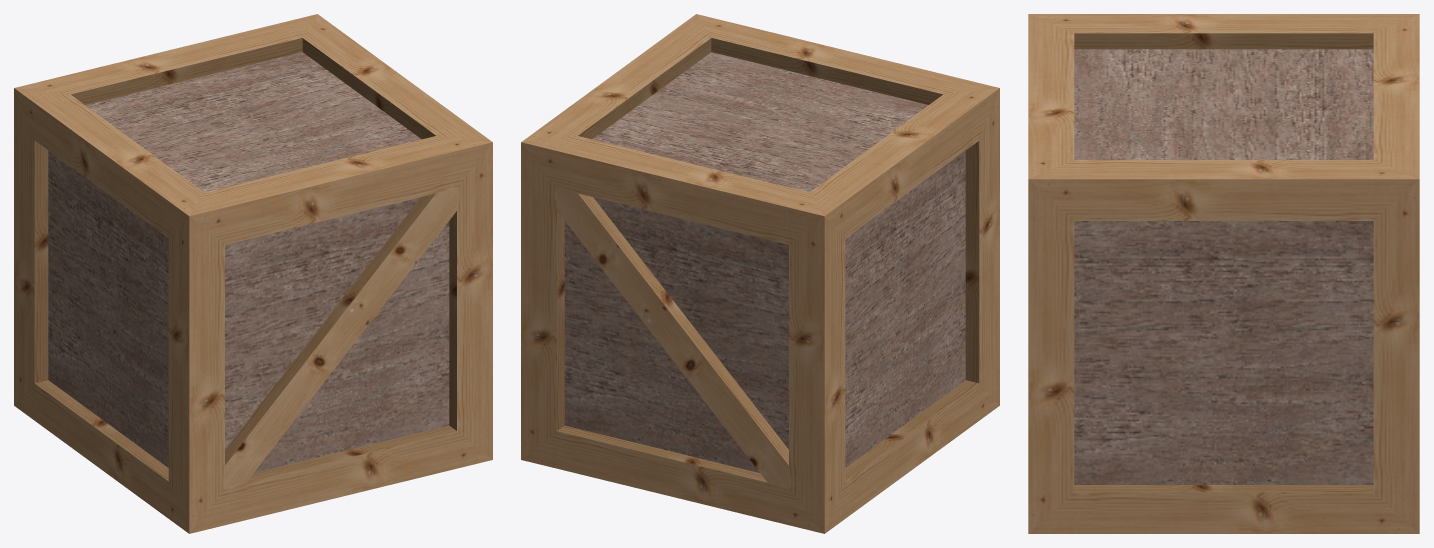
File: ShippingCrate.obj
3 renders of one model, left to right at view 1: azimuth 30°, elevation 25°; view 2: azimuth 150°, elevation 25°; view 3: azimuth 270°, elevation 25°, orthographic. The views are drawn at different scales.
Visible parts, largest first — view 1: ShippingCrate; view 2: ShippingCrate; view 3: ShippingCrate.
Boxes of the visible parts, x1,y1,x2,y2 form: ShippingCrate: [14, 14, 492, 533]; ShippingCrate: [521, 14, 999, 533]; ShippingCrate: [1028, 14, 1419, 533].
Bounding box in the file's own units: 1 × 1 × 1.
